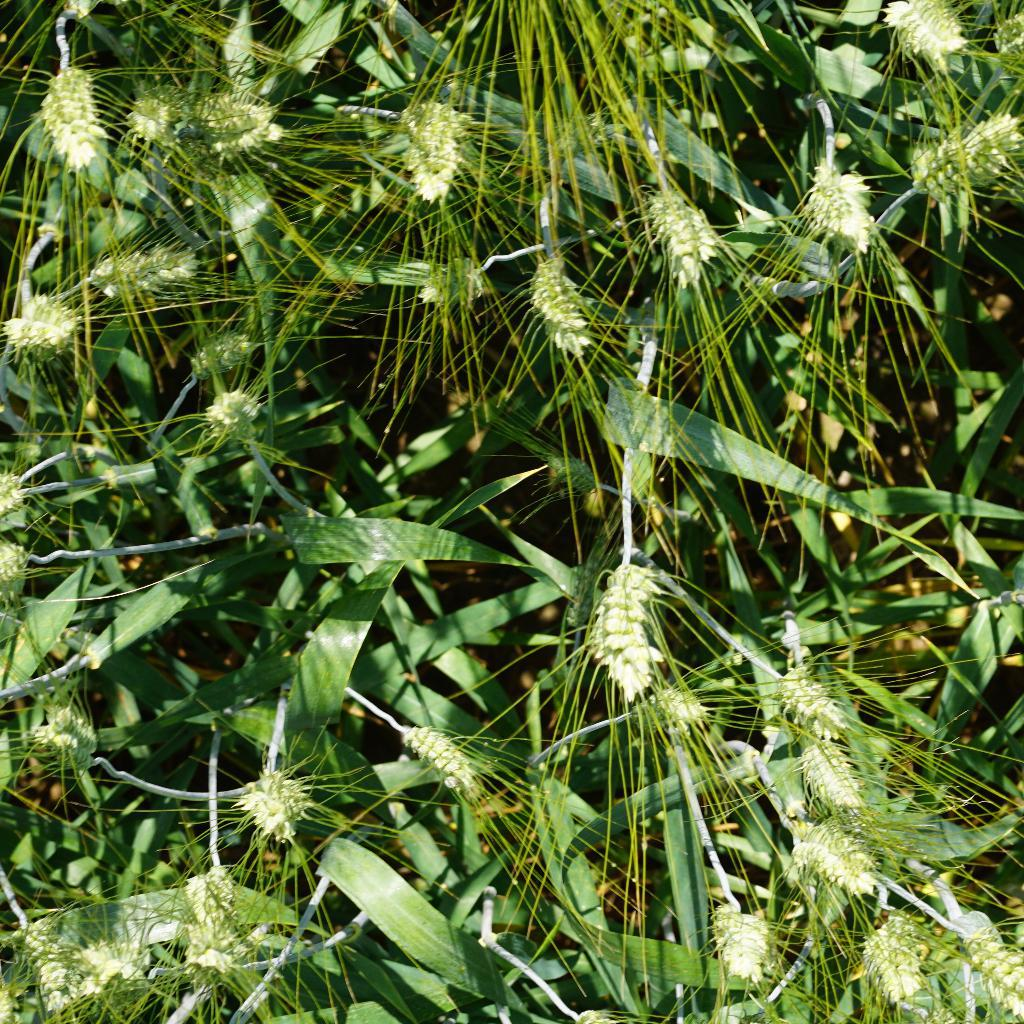0-0: (572, 544, 660, 703), (385, 714, 500, 798), (33, 52, 112, 168), (645, 174, 732, 276), (912, 118, 1024, 195), (789, 169, 877, 266), (527, 247, 608, 348), (777, 813, 886, 888), (402, 86, 470, 206), (860, 914, 937, 1013), (692, 889, 773, 983), (194, 79, 291, 156), (946, 918, 1024, 1013), (223, 761, 302, 849), (21, 916, 90, 1016), (6, 268, 83, 355), (69, 926, 162, 995), (88, 246, 209, 299), (768, 666, 858, 737), (793, 731, 870, 813), (414, 245, 497, 320), (881, 0, 970, 68), (32, 694, 107, 774), (201, 372, 275, 448), (539, 102, 612, 175), (120, 78, 191, 153), (179, 869, 253, 935), (178, 320, 264, 373), (182, 929, 249, 980), (651, 677, 706, 737), (564, 553, 602, 634), (546, 444, 604, 497), (992, 4, 1023, 68), (628, 698, 672, 743), (318, 879, 321, 881)
